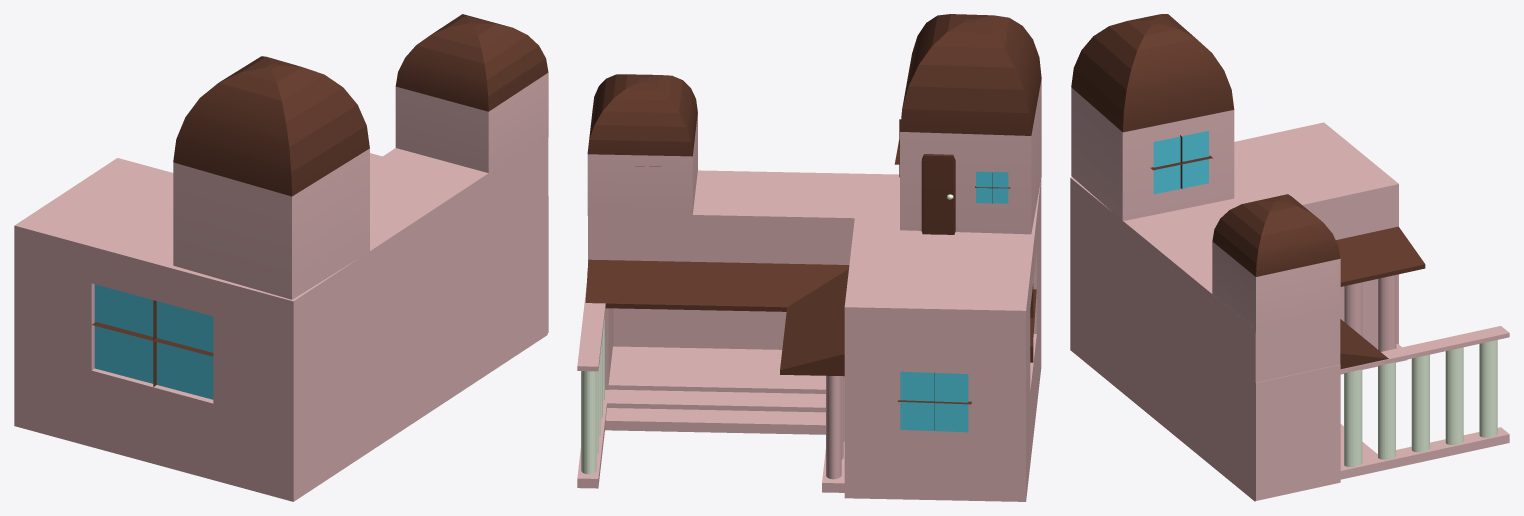
File: Extracteur bois.fbx
3 renders of one model, left to right at view 1: azimuth 30°, elevation 25°; view 2: azimuth 150°, elevation 25°; view 3: azimuth 270°, elevation 25°, orthographic. The views are drawn at different scales.
Parts seen in each view (by area): view 1: Cube.001; view 2: Cube.001; view 3: Cube.001.
Part boxes in pixels (left/top/right/bottom): Cube.001: left=14, top=14, right=548, bottom=501; Cube.001: left=577, top=14, right=1041, bottom=501; Cube.001: left=1070, top=14, right=1509, bottom=501.
Bounding box in the file's own units: 5.16 × 4.62 × 3.93.
